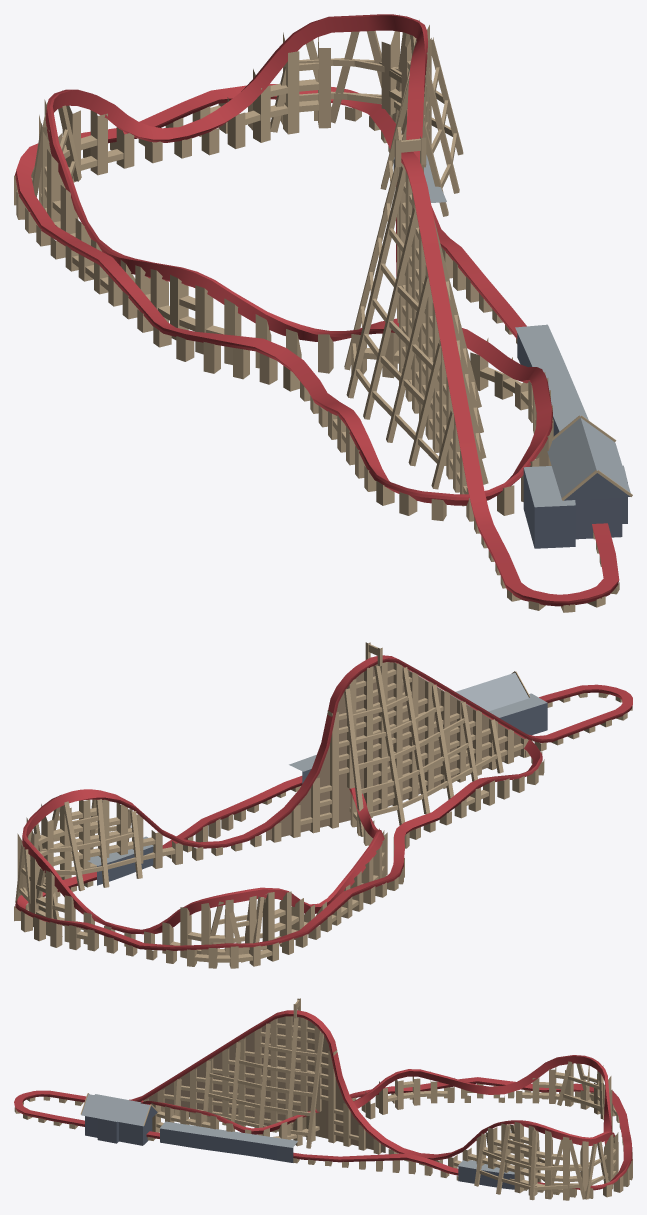
File: dal-new-texas-giant.glb
3 views of the same model, one above another, from view 1: azimuth 30°, elevation 25°; view 2: azimuth 150°, elevation 25°; view 3: azimuth 270°, elevation 25° (orthographic). The views are drawn at different scales.
Visible parts, largest first — view 1: New Texas Giant; view 2: New Texas Giant; view 3: New Texas Giant.
Part boxes in pixels (x1,y1,x2,y2): New Texas Giant: [14, 14, 632, 612]; New Texas Giant: [14, 642, 632, 968]; New Texas Giant: [14, 998, 632, 1200].
Bounding box in the file's own units: 90.14 × 53.35 × 219.
